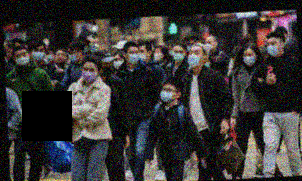with_mask: (186, 48, 203, 67), (159, 85, 176, 102), (81, 64, 98, 81), (265, 39, 281, 55), (99, 61, 114, 77), (125, 48, 139, 64), (14, 50, 28, 66), (31, 46, 45, 61), (242, 51, 255, 66), (172, 47, 184, 62), (67, 48, 79, 62), (112, 56, 124, 68), (137, 47, 147, 60), (184, 40, 195, 51), (204, 39, 214, 50), (153, 48, 162, 60), (47, 52, 54, 61)
without_mask: (54, 51, 66, 62)
